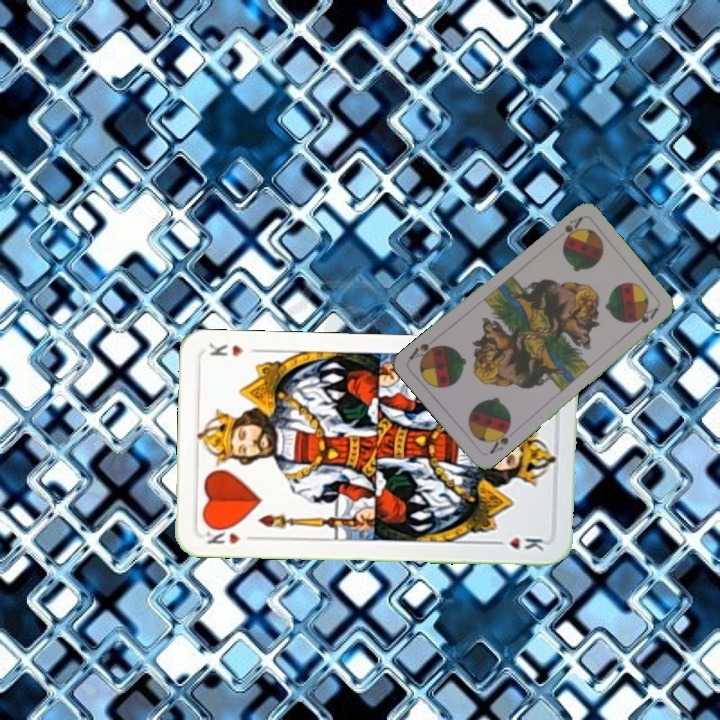HK: (199, 522, 258, 547)
SA: (551, 213, 585, 245), (485, 422, 513, 457)
